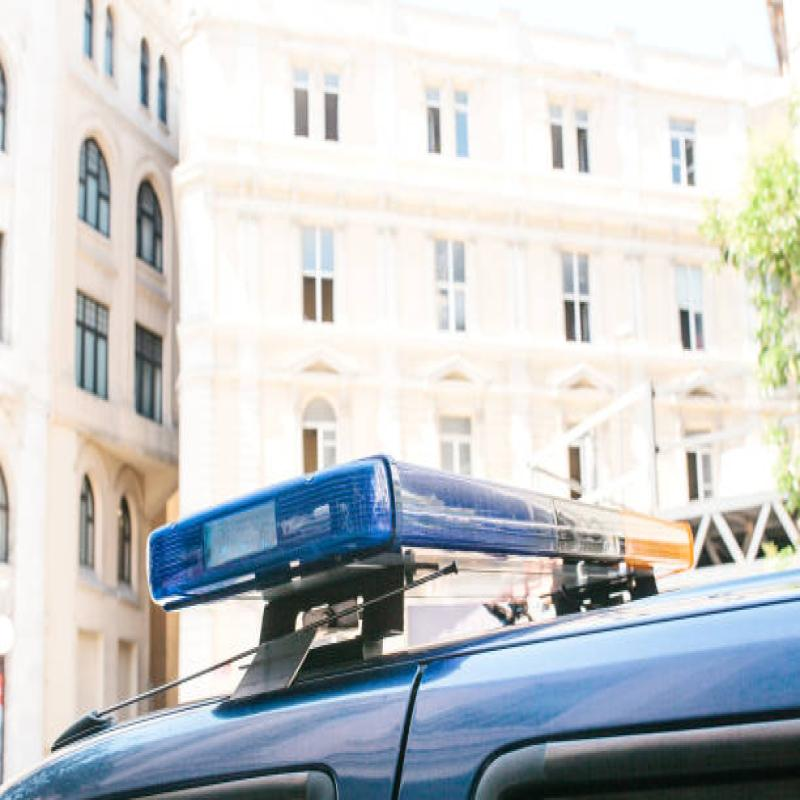AmbulanceSiren: (130, 389, 719, 652)
